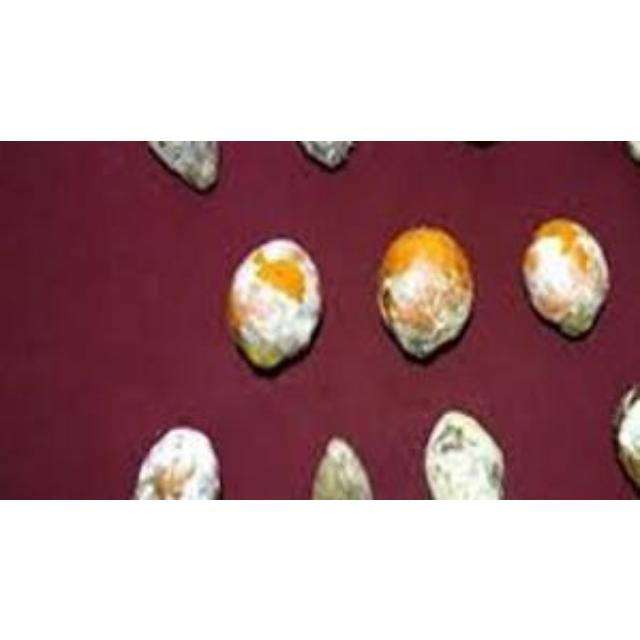damaged: (374, 222, 476, 358), (224, 234, 326, 370), (519, 214, 613, 336), (424, 408, 508, 498), (132, 426, 220, 498), (311, 436, 375, 499), (147, 141, 220, 191), (606, 382, 638, 492), (297, 141, 355, 169)
